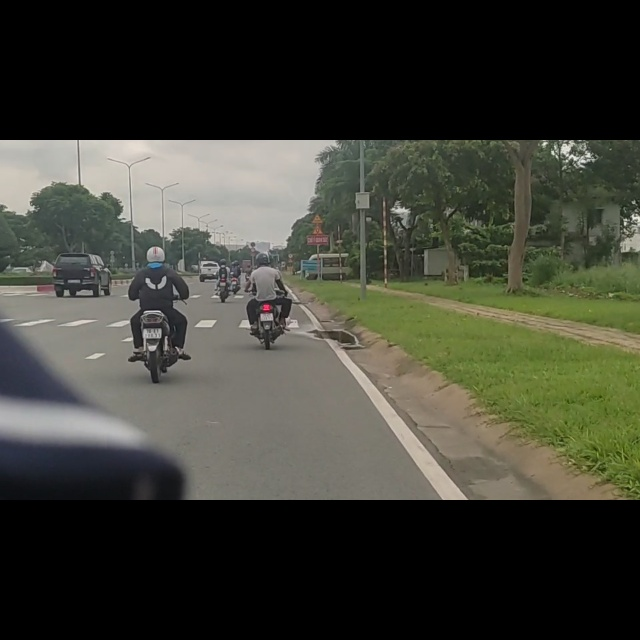bien_nguy_hiem: (311, 152, 325, 169), (311, 130, 323, 148), (250, 180, 256, 190)
